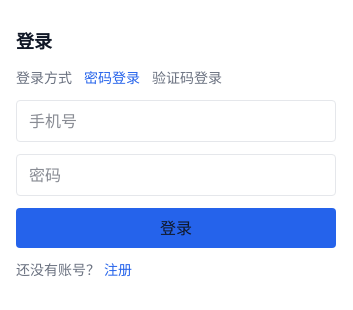
Test: LoginPage 分流 › 401 密码错 → 显示后端 detail(不是「服务暂不可用」),留在密码视图
Step 1. Type "13800000000" into the field with placeholder "手机号" → [176, 121], box [16,100,336,142]
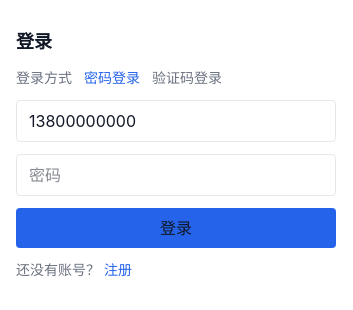
Step 2. Type "spike-password" into the password field with placeholder "密码" → [176, 175], box [16,154,336,196]
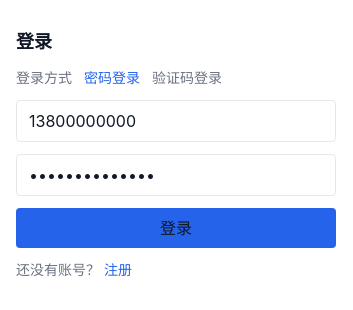
Step 3. Submit the form
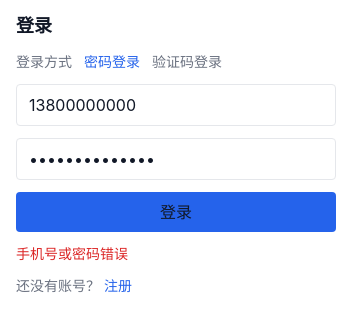
Expected: the text "手机号或密码错误" is shown, [16,245,128,262]
